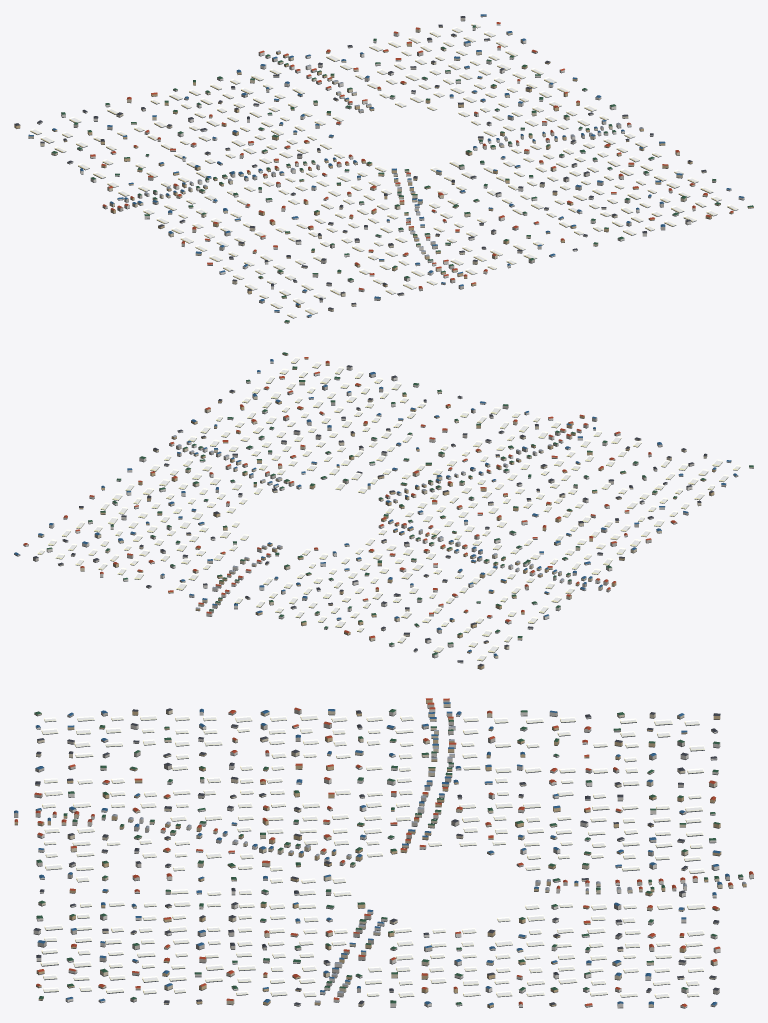
File: buildings_T_W04_N02.glb
The picture shows the model from 3 angles, top to bottom: view 1: azimuth 30°, elevation 25°; view 2: azimuth 150°, elevation 25°; view 3: azimuth 270°, elevation 25°; orthographic projection. The views are drawn at different scales.
Parts seen in each view (by area): view 1: T_W04_N02_roofs_agri_greenhouse_arch, T_W04_N02_slope_seating_foundations, T_W04_N02_walls_wall_modern_warm_white, T_W04_N02_walls_wall_dalat_cream_stucco, T_W04_N02_walls_wall_french_ochre_villa, T_W04_N02_walls_wall_pastel_sand_gray, T_W04_N02_roofs_roof_pine_green_hip, T_W04_N02_roofs_roof_highland_blue_gable, T_W04_N02_roofs_roof_terracotta_gable, T_W04_N02_roofs_roof_slate_French_villa_hip; view 2: T_W04_N02_roofs_agri_greenhouse_arch, T_W04_N02_slope_seating_foundations, T_W04_N02_walls_wall_modern_warm_white, T_W04_N02_walls_wall_dalat_cream_stucco, T_W04_N02_walls_wall_french_ochre_villa, T_W04_N02_walls_wall_pastel_sand_gray, T_W04_N02_roofs_roof_pine_green_hip, T_W04_N02_roofs_roof_highland_blue_gable, T_W04_N02_roofs_roof_terracotta_gable, T_W04_N02_roofs_roof_slate_French_villa_hip; view 3: T_W04_N02_roofs_agri_greenhouse_arch, T_W04_N02_slope_seating_foundations, T_W04_N02_walls_wall_modern_warm_white, T_W04_N02_walls_wall_dalat_cream_stucco, T_W04_N02_walls_wall_french_ochre_villa, T_W04_N02_walls_wall_pastel_sand_gray, T_W04_N02_roofs_roof_pine_green_hip, T_W04_N02_roofs_roof_highland_blue_gable, T_W04_N02_roofs_roof_terracotta_gable, T_W04_N02_roofs_roof_slate_French_villa_hip, T_W04_N02_roofs_roof_zinc_silver_gable.
Part boxes in pixels (x1,y1,x2,y2): T_W04_N02_roofs_agri_greenhouse_arch: (30, 22, 738, 317); T_W04_N02_slope_seating_foundations: (14, 16, 753, 323); T_W04_N02_walls_wall_modern_warm_white: (37, 24, 744, 317); T_W04_N02_walls_wall_dalat_cream_stucco: (28, 26, 707, 323); T_W04_N02_walls_wall_french_ochre_villa: (14, 42, 753, 307); T_W04_N02_walls_wall_pastel_sand_gray: (73, 15, 716, 312); T_W04_N02_roofs_roof_pine_green_hip: (51, 25, 753, 322); T_W04_N02_roofs_roof_highland_blue_gable: (28, 14, 743, 316); T_W04_N02_roofs_roof_terracotta_gable: (90, 22, 733, 289); T_W04_N02_roofs_roof_slate_French_villa_hip: (14, 16, 706, 309); T_W04_N02_roofs_agri_greenhouse_arch: (37, 357, 740, 660); T_W04_N02_slope_seating_foundations: (14, 354, 753, 669); T_W04_N02_walls_wall_modern_warm_white: (23, 361, 731, 662); T_W04_N02_walls_wall_dalat_cream_stucco: (38, 376, 753, 658); T_W04_N02_walls_wall_french_ochre_villa: (79, 353, 716, 669); T_W04_N02_walls_wall_pastel_sand_gray: (14, 373, 738, 646); T_W04_N02_roofs_roof_pine_green_hip: (47, 352, 753, 654); T_W04_N02_roofs_roof_highland_blue_gable: (14, 359, 737, 656); T_W04_N02_roofs_roof_terracotta_gable: (23, 357, 676, 638); T_W04_N02_roofs_roof_slate_French_villa_hip: (33, 365, 713, 666); T_W04_N02_roofs_agri_greenhouse_arch: (40, 714, 705, 997); T_W04_N02_slope_seating_foundations: (14, 703, 753, 1008); T_W04_N02_walls_wall_modern_warm_white: (33, 708, 753, 1008); T_W04_N02_walls_wall_dalat_cream_stucco: (34, 703, 733, 1006); T_W04_N02_walls_wall_french_ochre_villa: (14, 699, 746, 1007); T_W04_N02_walls_wall_pastel_sand_gray: (14, 700, 743, 1006); T_W04_N02_roofs_roof_pine_green_hip: (34, 709, 743, 1004); T_W04_N02_roofs_roof_highland_blue_gable: (14, 702, 729, 1005); T_W04_N02_roofs_roof_terracotta_gable: (14, 698, 753, 1006); T_W04_N02_roofs_roof_slate_French_villa_hip: (33, 708, 720, 1005); T_W04_N02_roofs_roof_zinc_silver_gable: (112, 726, 746, 1002).
Bounding box in the file's own units: 1819 × 32.69 × 1887.
